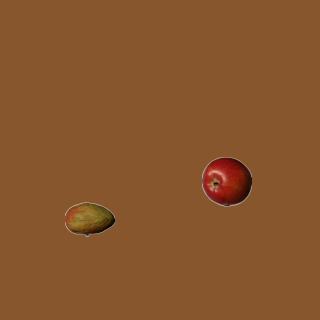Apple Braeburn: (201, 156, 251, 206)
Papaya: (64, 194, 114, 244)
